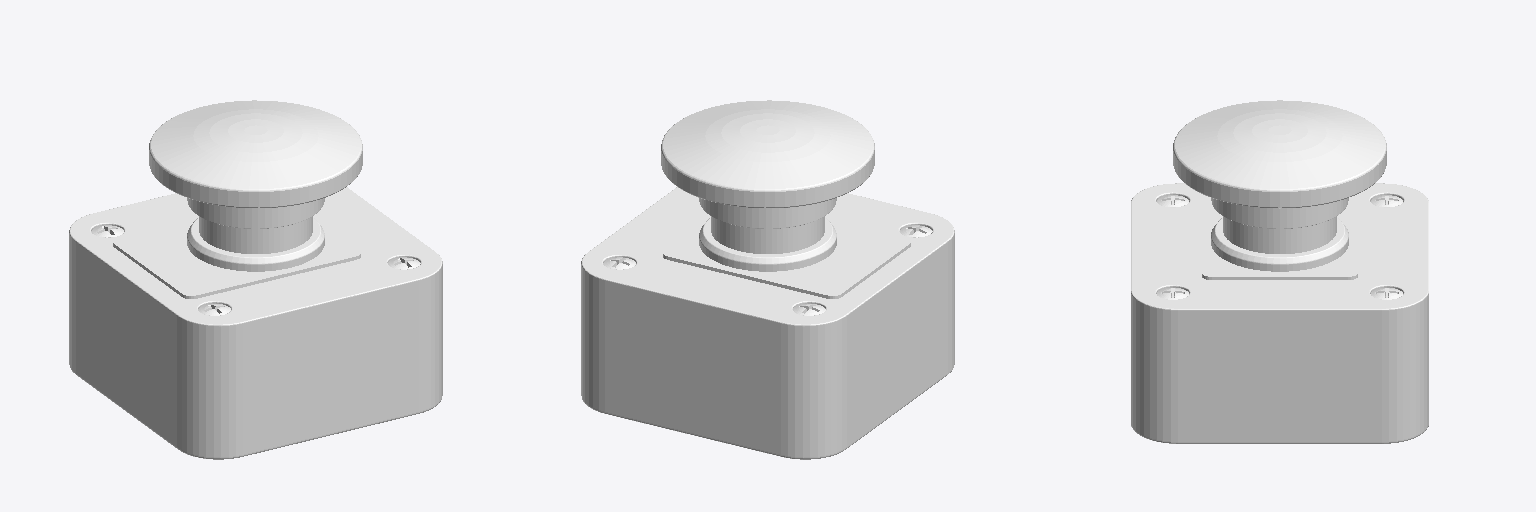
File: export3dcoat.obj
3 renders of one model, left to right at view 1: azimuth 30°, elevation 25°; view 2: azimuth 150°, elevation 25°; view 3: azimuth 270°, elevation 25°, orthographic.
Visible parts, largest first — view 1: Yellow, Black, RedButton, Plate, Aluminium, Chrome, Screws; view 2: Yellow, Black, RedButton, Plate, Aluminium, Chrome, Screws; view 3: Yellow, RedButton, Black, Plate, Aluminium, Chrome, Screws.
Part boxes in pixels (x1,y1,x2,y2): Yellow: (69, 187, 442, 392); Black: (69, 300, 442, 459); RedButton: (149, 100, 362, 228); Plate: (113, 217, 360, 298); Aluminium: (187, 218, 324, 271); Chrome: (199, 216, 312, 253); Screws: (91, 225, 420, 315); Yellow: (581, 187, 954, 392); Black: (581, 300, 954, 459); RedButton: (661, 100, 874, 228); Plate: (663, 217, 910, 298); Aluminium: (699, 218, 836, 271); Chrome: (711, 216, 824, 253); Screws: (603, 225, 932, 315); Yellow: (1131, 183, 1428, 376); RedButton: (1173, 100, 1386, 228); Black: (1131, 361, 1428, 443); Plate: (1202, 194, 1357, 279); Aluminium: (1211, 218, 1348, 271); Chrome: (1223, 216, 1336, 253); Screws: (1157, 195, 1402, 299).
Bounding box in the file's own units: 200 × 185 × 200.